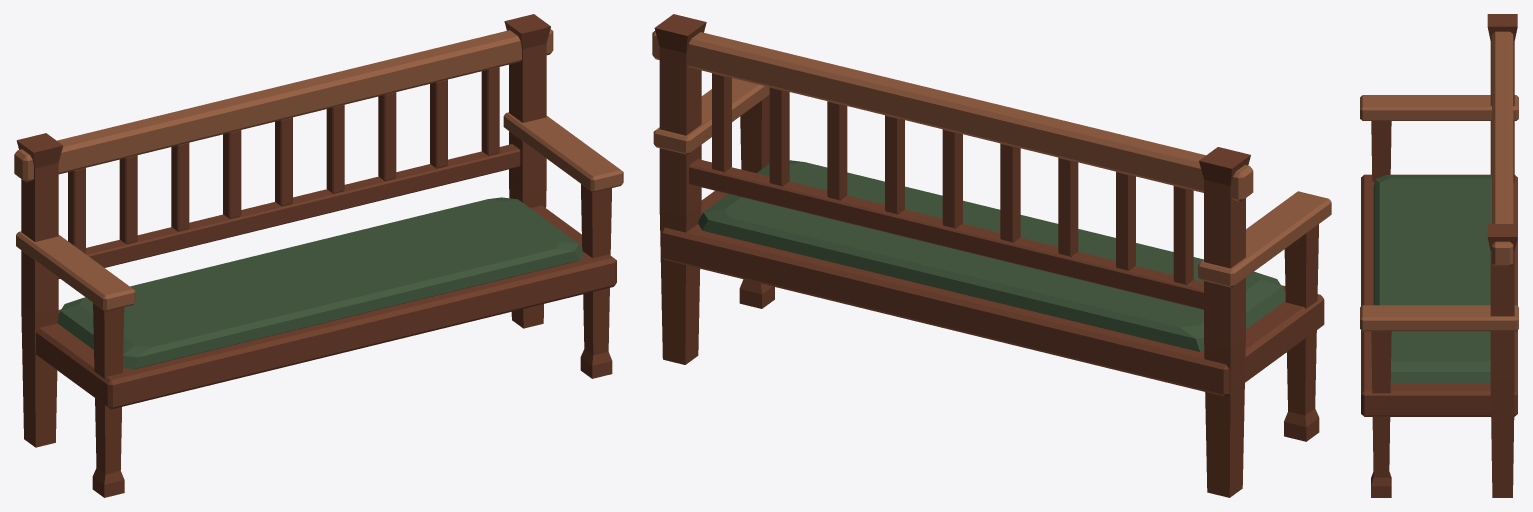
Rendered from bench_04.glb.
3 renders of one model, left to right at view 1: azimuth 30°, elevation 25°; view 2: azimuth 150°, elevation 25°; view 3: azimuth 270°, elevation 25°, orthographic. The views are drawn at different scales.
Parts seen in each view (by area): view 1: LongCushion, SeatBase, BackTopRail, BackBottomRail, RearLeg, RearLeg_001, FrontLeg, FrontLeg_001, ArmRest_001, ArmRest, Slat_06, Slat_03 (+7 smaller); view 2: LongCushion, SeatBase, BackTopRail, BackBottomRail, RearLeg, RearLeg_001, FrontLeg, ArmRest, FrontLeg_001, ArmRest_001, Slat_04, Slat_07 (+7 smaller); view 3: LongCushion, SeatBase, RearLeg_001, BackTopRail, ArmRest_001, ArmRest, FrontLeg_001, FrontLeg, RearLeg.
Part boxes in pixels (box(x1,y1,x2,y2)): LongCushion: box(57, 197, 584, 369); SeatBase: box(35, 205, 616, 409); BackTopRail: box(14, 29, 553, 182); BackBottomRail: box(58, 144, 520, 278); RearLeg: box(16, 133, 63, 447); RearLeg_001: box(504, 14, 550, 328); FrontLeg: box(92, 303, 124, 497); FrontLeg_001: box(580, 184, 612, 378); ArmRest_001: box(503, 112, 623, 192); ArmRest: box(16, 231, 135, 311); Slat_06: box(378, 92, 396, 180); Slat_03: box(223, 130, 241, 218); LongCushion: box(698, 160, 1285, 351); SeatBase: box(661, 190, 1324, 396); BackTopRail: box(652, 31, 1253, 201); BackBottomRail: box(689, 159, 1203, 309); RearLeg: box(1199, 147, 1250, 497); RearLeg_001: box(654, 14, 706, 364); FrontLeg: box(1284, 224, 1319, 441); ArmRest: box(1198, 191, 1331, 287); FrontLeg_001: box(739, 95, 774, 308); ArmRest_001: box(653, 78, 769, 154); Slat_04: box(942, 129, 962, 228); Slat_07: box(769, 87, 789, 186); LongCushion: box(1373, 175, 1491, 382); SeatBase: box(1361, 174, 1517, 416); RearLeg_001: box(1487, 224, 1517, 497); BackTopRail: box(1492, 31, 1513, 266); ArmRest_001: box(1360, 305, 1518, 331); ArmRest: box(1360, 95, 1518, 120); FrontLeg_001: box(1371, 331, 1391, 497); FrontLeg: box(1371, 121, 1391, 181); RearLeg: box(1487, 14, 1517, 182).
Size of the model in its own units: 1.9 by 1.02 by 0.558.
